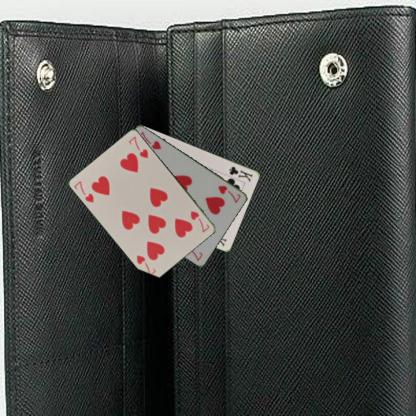7h: (72, 178, 95, 204), (188, 209, 211, 233), (216, 183, 242, 204)
Kc: (226, 164, 254, 183)
